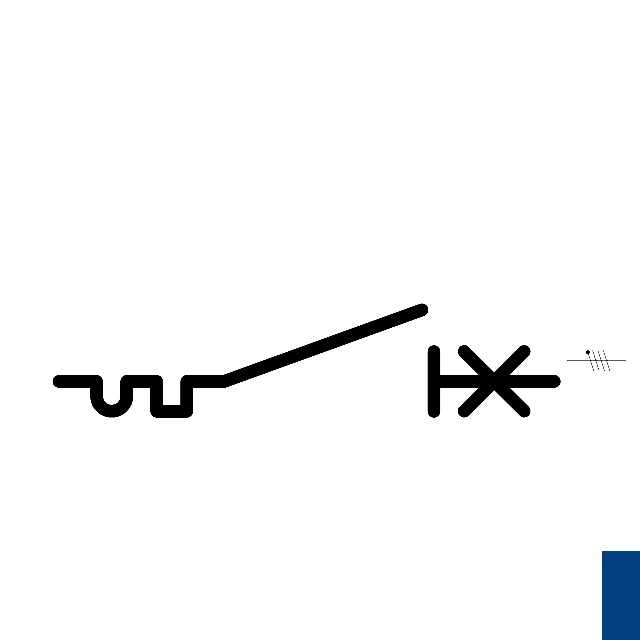interruptor_termomagnetico: (46, 297, 567, 424)
